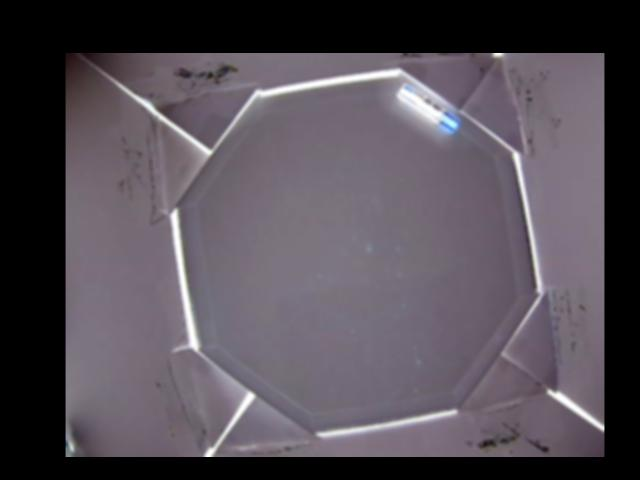Battery: (395, 84, 461, 135)
